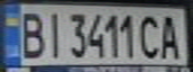1: (118, 10, 139, 58), (103, 10, 121, 58)
3: (63, 8, 87, 59)
4: (84, 9, 106, 58)
A: (157, 11, 184, 60)
B: (15, 7, 48, 60)
C: (136, 11, 163, 60)
I: (42, 7, 66, 60)
